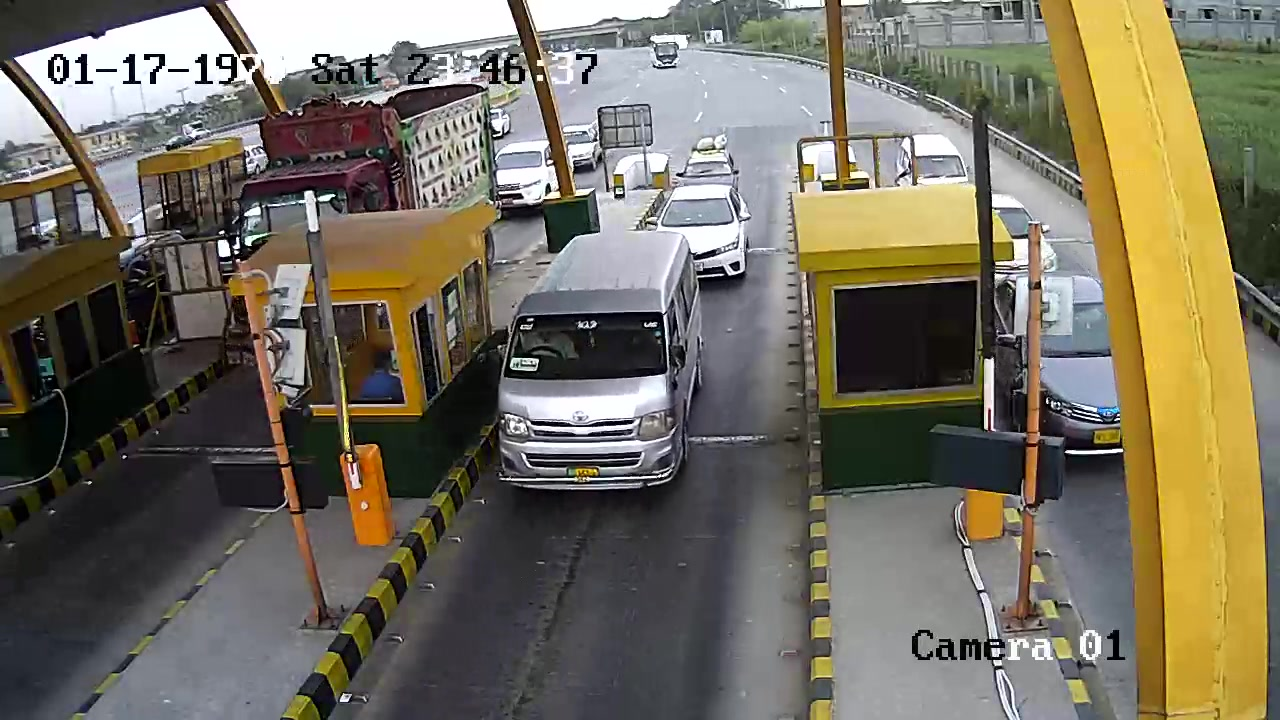F3: (491, 228, 715, 506)
